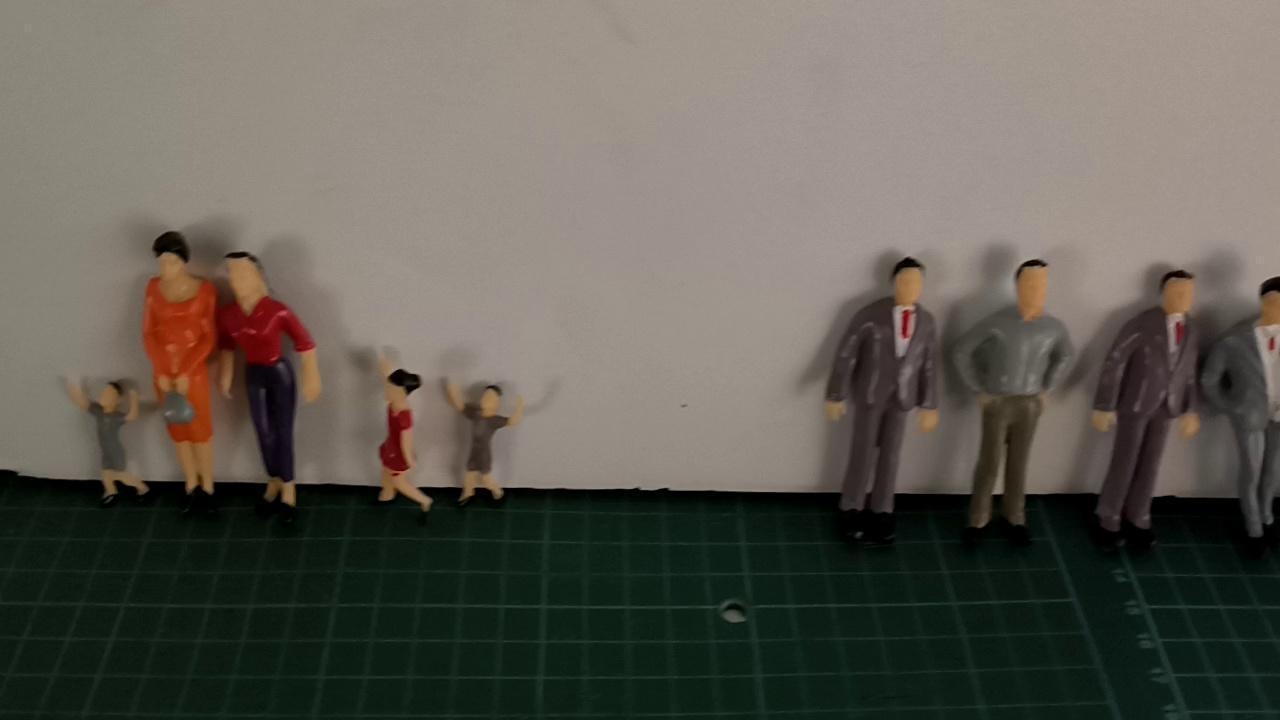human: (943, 257, 1085, 553), (817, 258, 948, 550), (1089, 258, 1203, 554), (221, 251, 326, 513), (145, 226, 226, 500), (1202, 274, 1280, 550), (371, 350, 440, 518), (445, 367, 526, 510), (63, 381, 153, 509)
